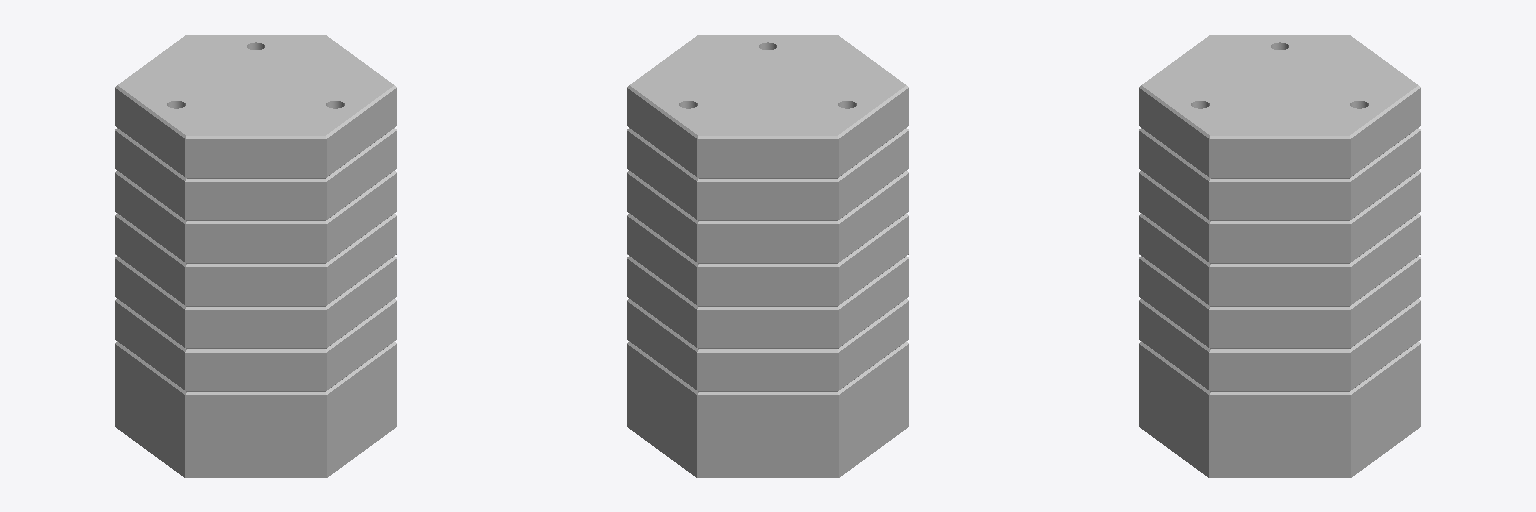
File: lvl7B.obj
3 views of the same model, side by side, from view 1: azimuth 30°, elevation 25°; view 2: azimuth 150°, elevation 25°; view 3: azimuth 270°, elevation 25° (orthographic).
Visible parts, largest first — view 1: Lvl7B-3_(Mono-NoMags); view 2: Lvl7B-3_(Mono-NoMags); view 3: Lvl7B-3_(Mono-NoMags).
Part boxes in pixels (x1,y1,x2,y2): Lvl7B-3_(Mono-NoMags): (115,35,396,477); Lvl7B-3_(Mono-NoMags): (627,35,908,477); Lvl7B-3_(Mono-NoMags): (1139,35,1420,477).
Bounding box in the file's own units: 3.13 × 4.83 × 3.62.